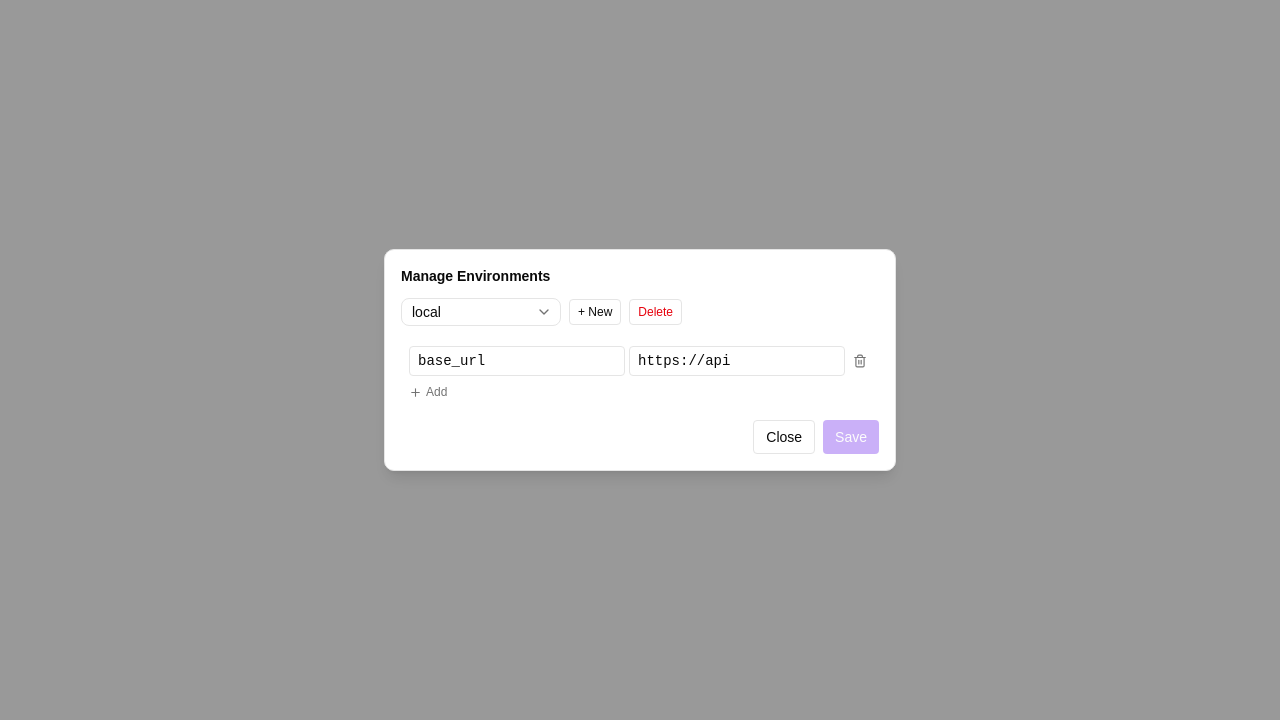
Test case: EnvironmentManager › + New shows an inline error for a duplicate name and does not create
The width and height of the screenshot is (1280, 720).
Click the button with test id "env-new-button": click(595, 312) [569,299,621,325]
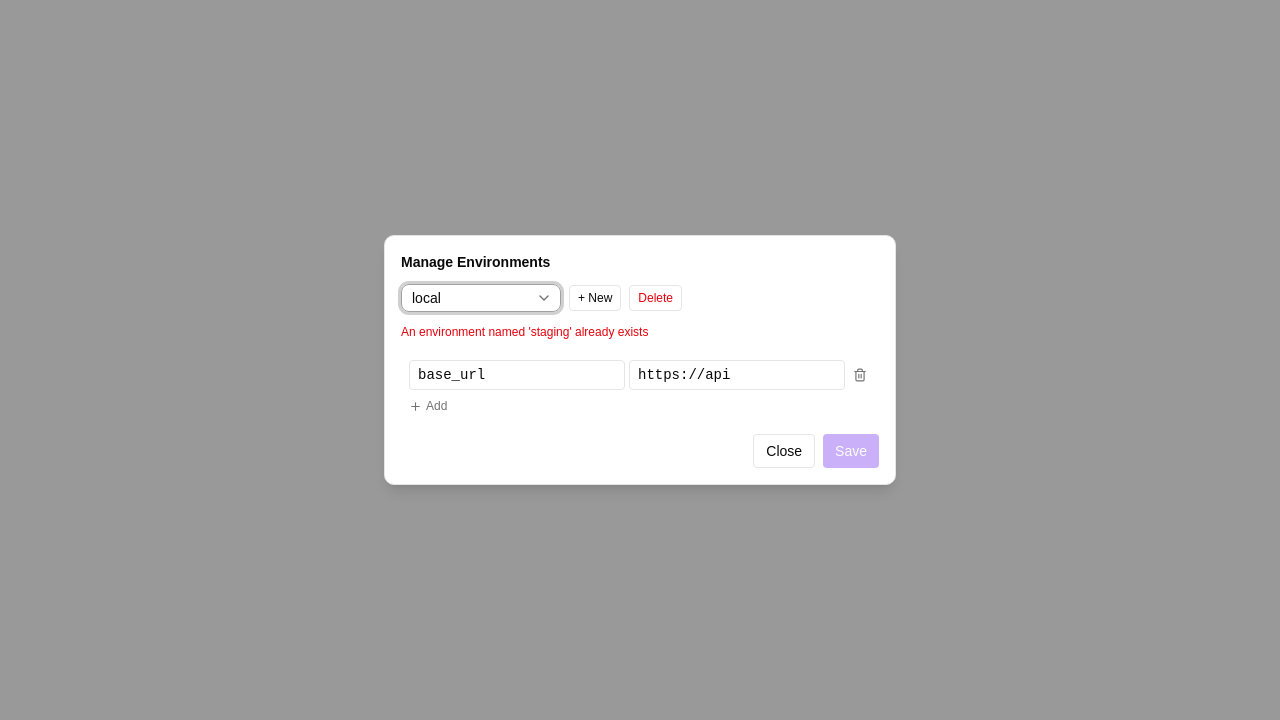
Now the message shows "already exists", box [401,325,648,339]
